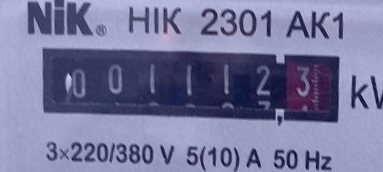0: (101, 59, 125, 98), (64, 64, 88, 100)
1: (140, 58, 160, 97), (178, 59, 194, 98), (216, 60, 232, 97)
2: (249, 62, 273, 99)
3: (290, 63, 310, 99)
screen: (29, 35, 347, 134)
